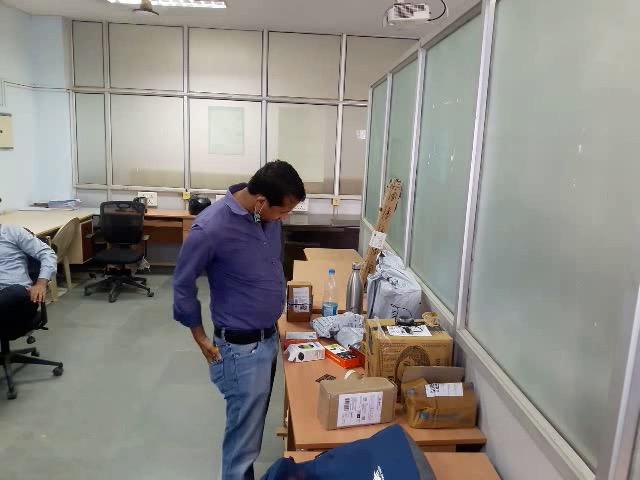shoplifting: (139, 298, 299, 424)
